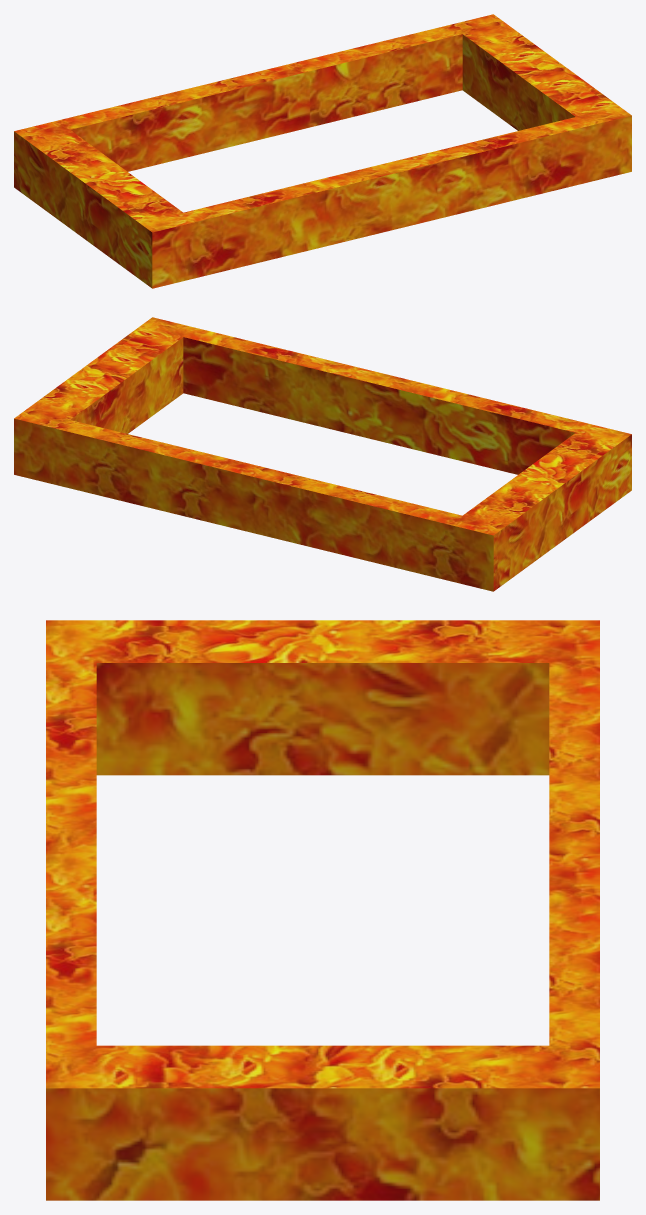
3 renders of one model, top to bottom at view 1: azimuth 30°, elevation 25°; view 2: azimuth 150°, elevation 25°; view 3: azimuth 270°, elevation 25°, orthographic. The views are drawn at different scales.
Parts seen in each view (by area): view 1: Square; view 2: Square; view 3: Square.
Boxes of the visible parts, bbox=[...] form: Square: bbox=[14, 14, 631, 288]; Square: bbox=[14, 317, 631, 591]; Square: bbox=[46, 620, 599, 1200].
Bounding box in the file's own units: 89.29 × 10 × 44.64.
Materials: 1 (1 with a texture image).
